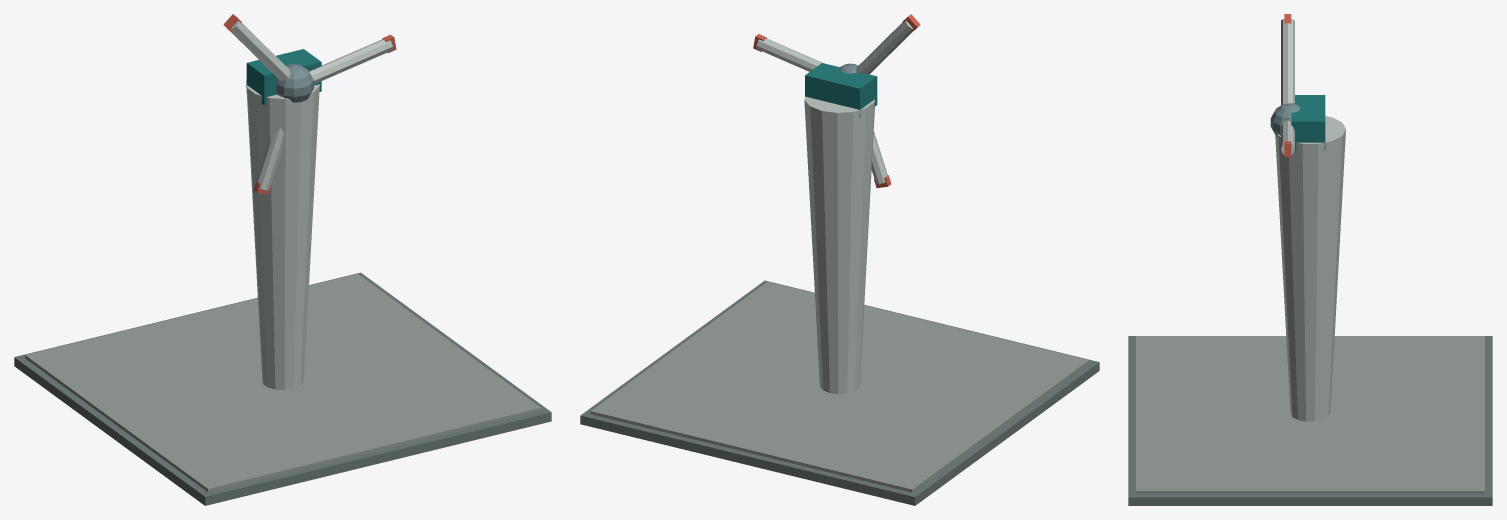
The model's file is wind_lv1.glb.
The picture shows the model from 3 angles, left to right: view 1: azimuth 30°, elevation 25°; view 2: azimuth 150°, elevation 25°; view 3: azimuth 270°, elevation 25°; orthographic projection. The views are drawn at different scales.
Visible parts, largest first — view 1: rough, metallic; view 2: rough; view 3: rough, metallic.
Part boxes in pixels (x1,y1,x2,y2): rough: (14,14,551,505); metallic: (276,64,313,102); rough: (580,14,1099,505); rough: (1128,14,1492,505); metallic: (1270,103,1300,136).
Bounding box in the file's own units: 8.8 × 9.75 × 8.4.
